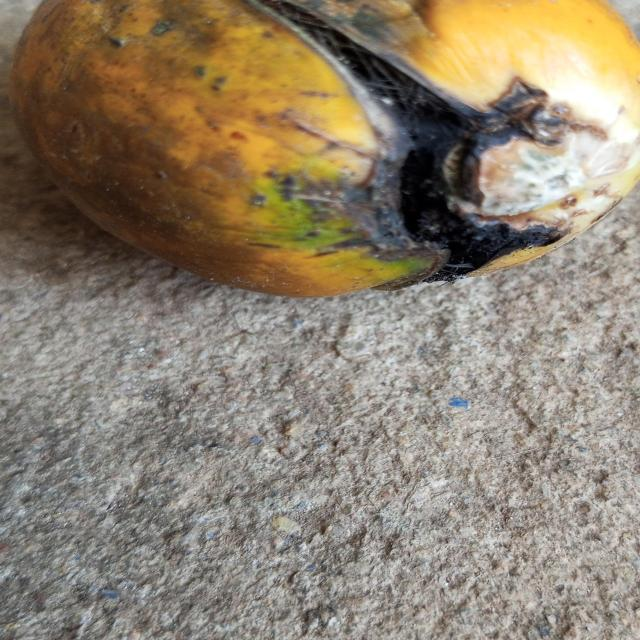damaged: (8, 0, 640, 301)
